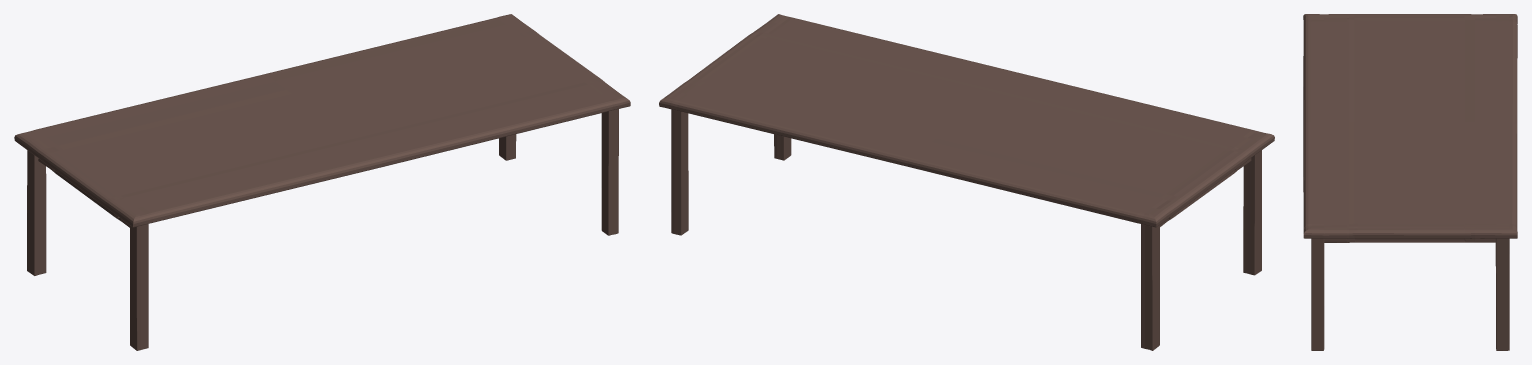
The model's file is table.fbx.
The picture shows the model from 3 angles, left to right: view 1: azimuth 30°, elevation 25°; view 2: azimuth 150°, elevation 25°; view 3: azimuth 270°, elevation 25°; orthographic projection. The views are drawn at different scales.
Visible parts, largest first — view 1: Cube; view 2: Cube; view 3: Cube.
Part boxes in pixels (box(x1,y1,x2,y2)): Cube: box(14, 14, 630, 350); Cube: box(659, 14, 1274, 350); Cube: box(1303, 14, 1517, 350).
Bounding box in the file's own units: 707 × 185 × 293.
